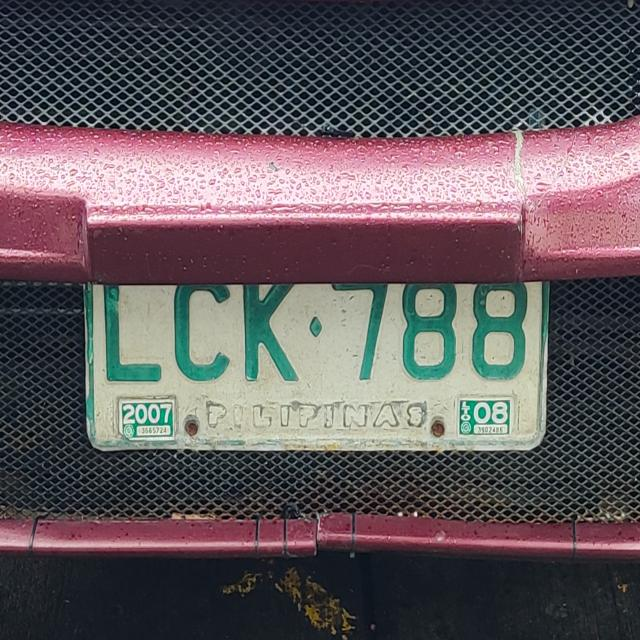plate: (76, 241, 556, 460)
